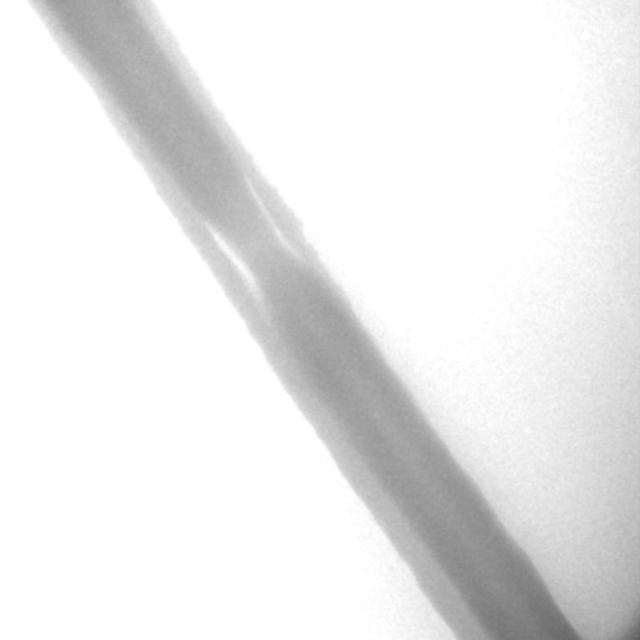unfused: (206, 174, 301, 297)
